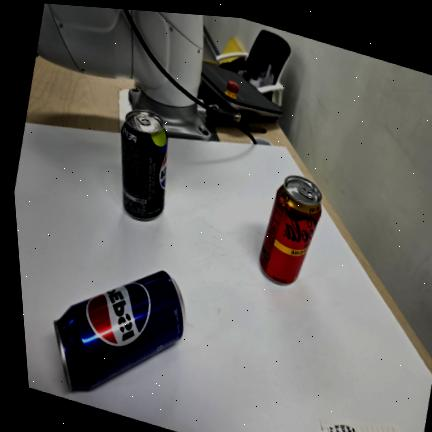can_coke_decaf: (258, 177, 322, 285)
can_pepsi: (53, 269, 186, 393)
can_pepsi_zero: (123, 110, 167, 219)
